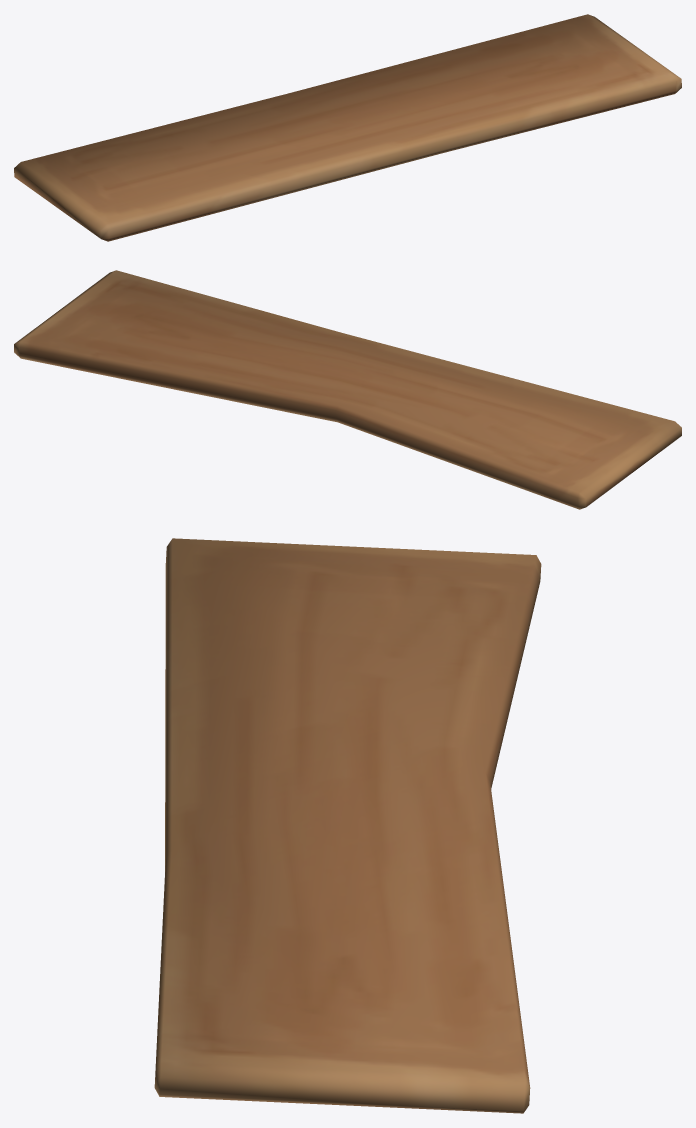
The model's file is Slat2.fbx.
3 views of the same model, one above another, from view 1: azimuth 30°, elevation 25°; view 2: azimuth 150°, elevation 25°; view 3: azimuth 270°, elevation 25° (orthographic). The views are drawn at different scales.
Visible parts, largest first — view 1: polySurface1169; view 2: polySurface1169; view 3: polySurface1169.
Boxes of the visible parts, bbox=[...] form: polySurface1169: bbox=[14, 14, 681, 241]; polySurface1169: bbox=[14, 270, 681, 509]; polySurface1169: bbox=[154, 538, 541, 1113].
Bounding box in the file's own units: 18.78 × 1.1 × 5.43.
